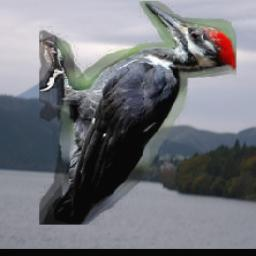Woodpecker: (40, 2, 238, 226)
